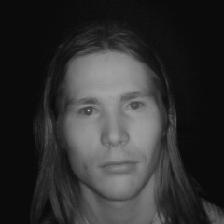normal: (40, 33, 187, 202)
